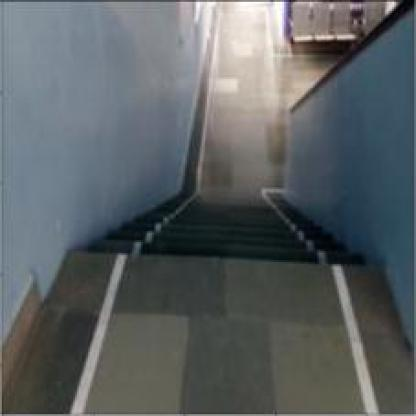stair_down: (59, 171, 385, 292)
